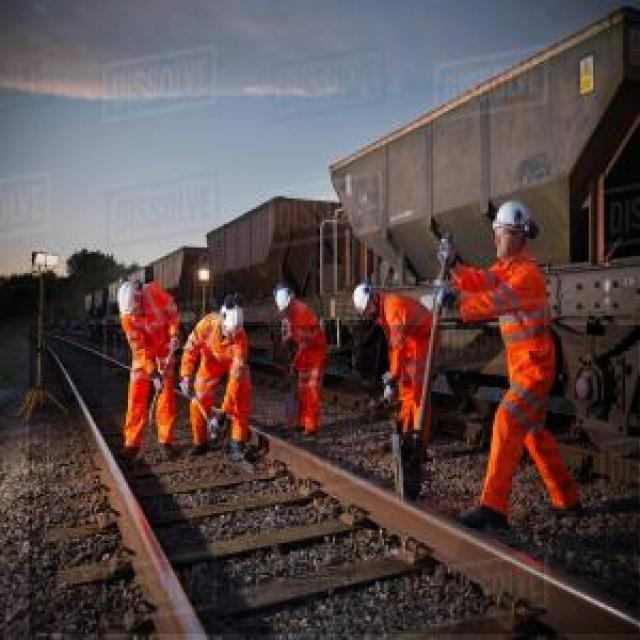rail: (30, 327, 640, 635)
